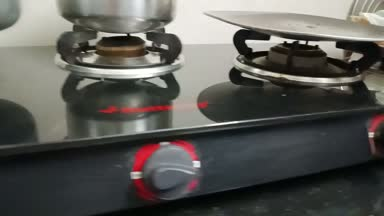flame_gas_off: (62, 25, 206, 204)
